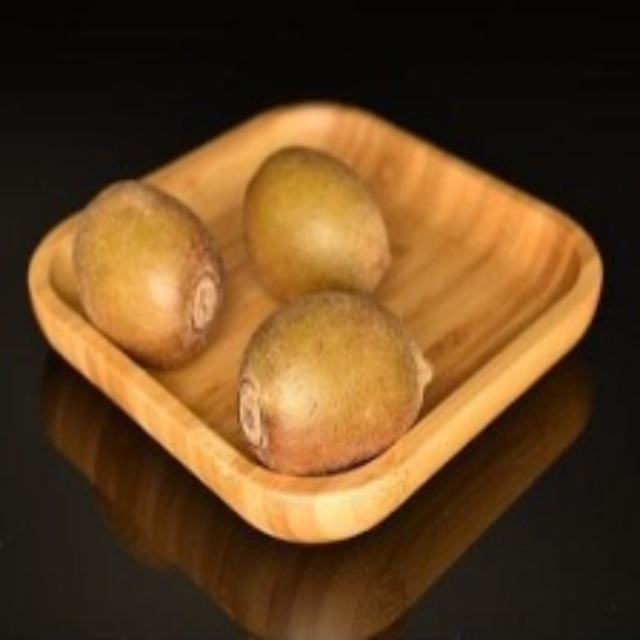kiwi: (238, 292, 432, 486), (80, 180, 224, 367), (240, 137, 398, 298)
